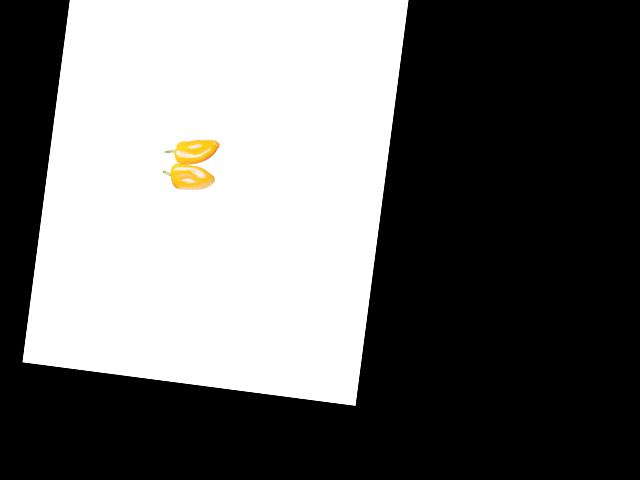bell_pepper: (159, 160, 227, 200)
